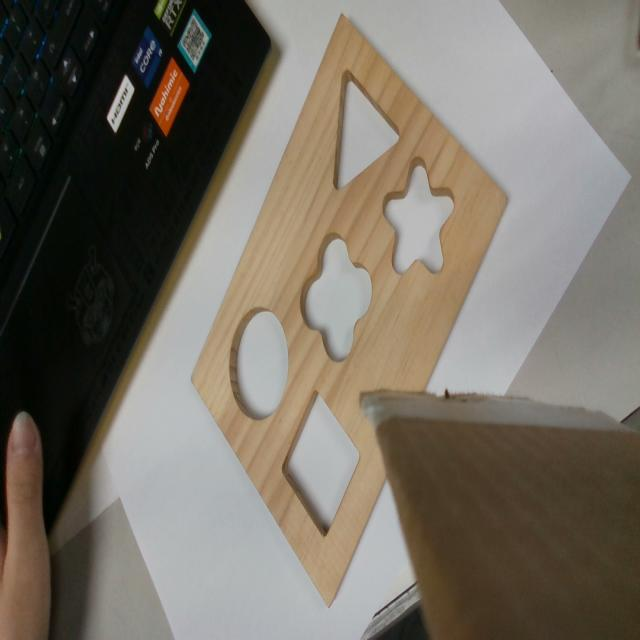circle: (230, 305, 289, 414)
flower: (300, 233, 371, 361)
square: (281, 389, 361, 537)
star: (382, 155, 454, 272)
triangle: (332, 67, 401, 189)
